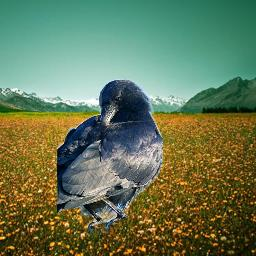Crow: (57, 79, 163, 234)
